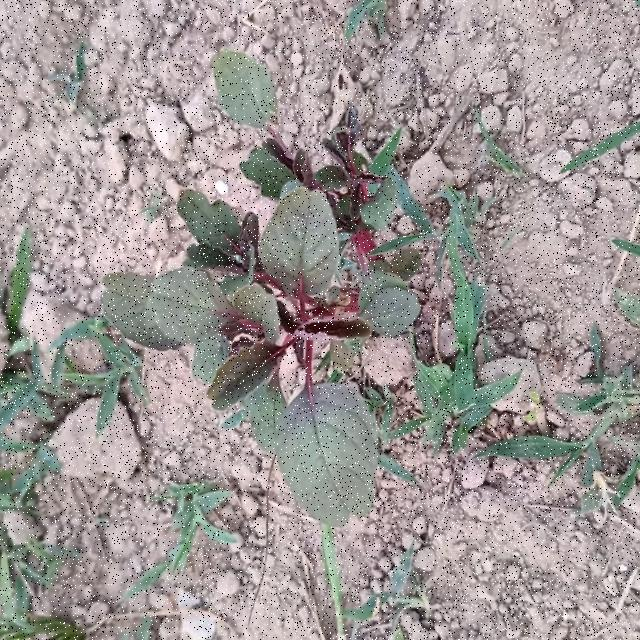plant: (101, 51, 420, 526)
